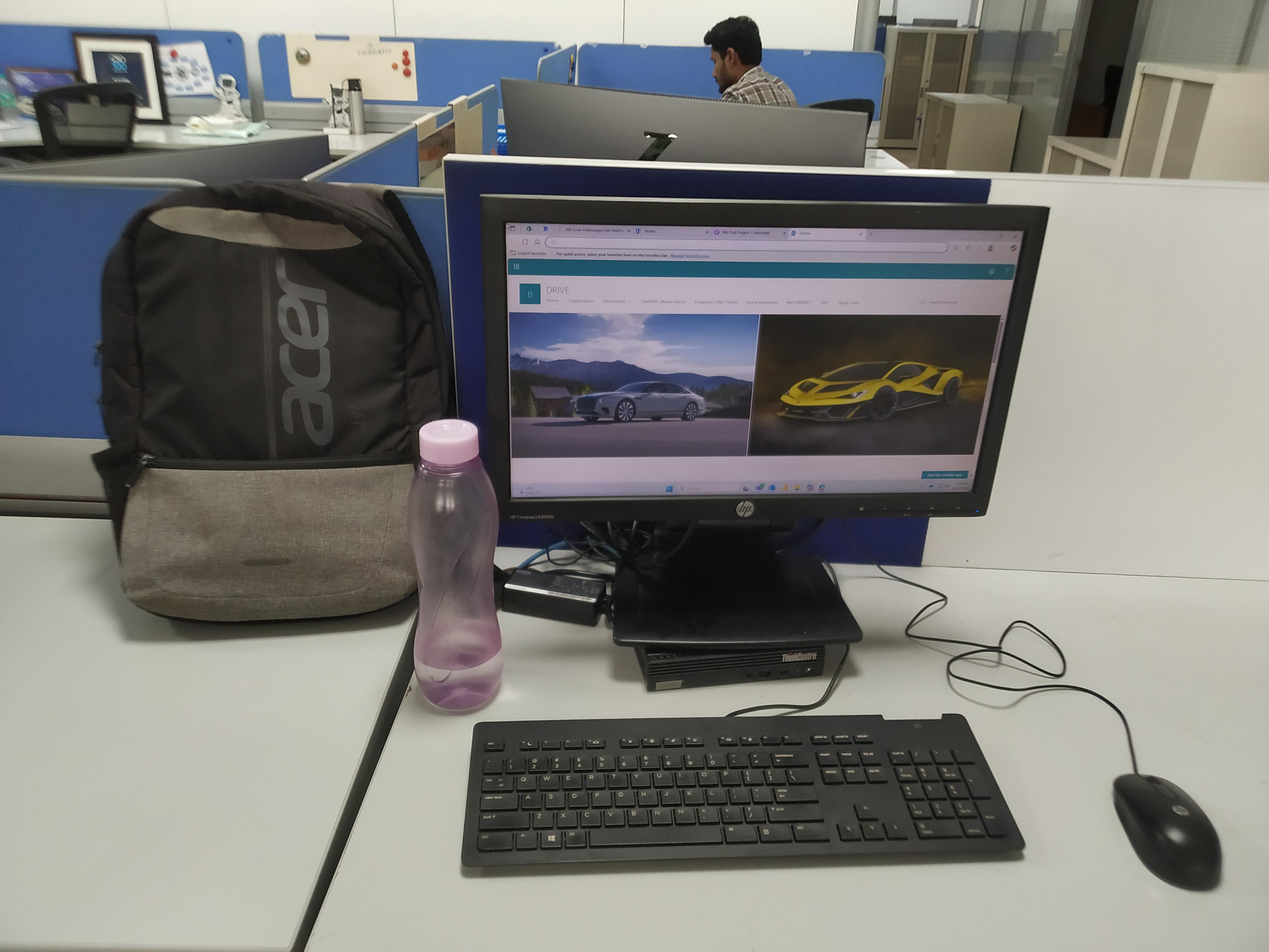bag: (79, 175, 455, 618)
bottle: (404, 411, 508, 720)
desktop: (472, 190, 1057, 647)
keyboard: (452, 710, 1042, 887)
mouse: (1106, 760, 1230, 898)
